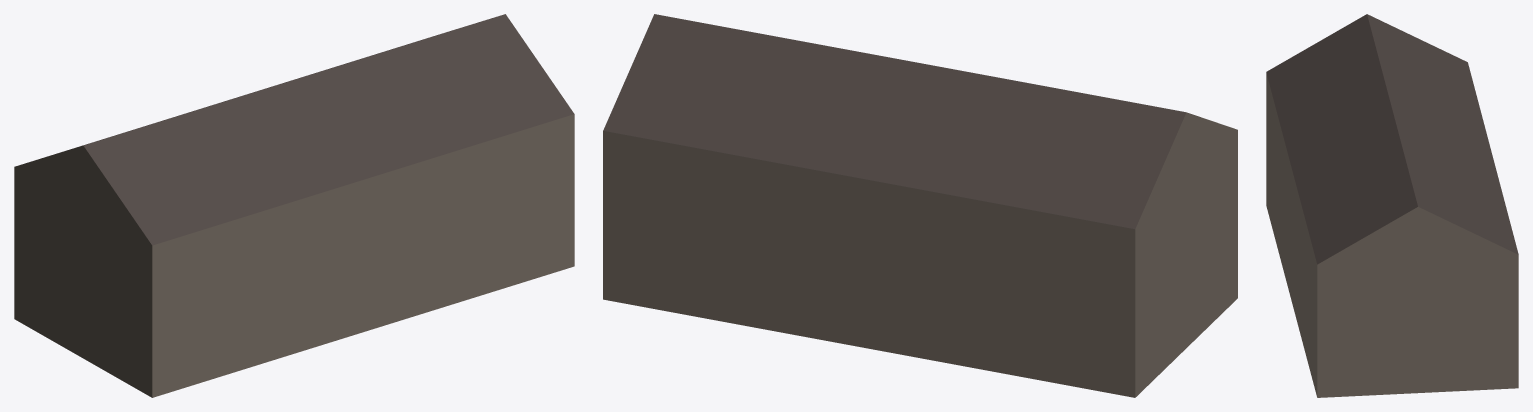
The picture shows the model from 3 angles, left to right: view 1: azimuth 30°, elevation 25°; view 2: azimuth 150°, elevation 25°; view 3: azimuth 270°, elevation 25°; orthographic projection. The views are drawn at different scales.
Parts seen in each view (by area): view 1: HP-w859467769; view 2: HP-w859467769; view 3: HP-w859467769.
Part boxes in pixels (left/top/right/bottom): HP-w859467769: left=14, top=14, right=574, bottom=397; HP-w859467769: left=603, top=14, right=1237, bottom=397; HP-w859467769: left=1266, top=14, right=1518, bottom=397.
Bounding box in the file's own units: 29.31 × 12.59 × 15.46.
